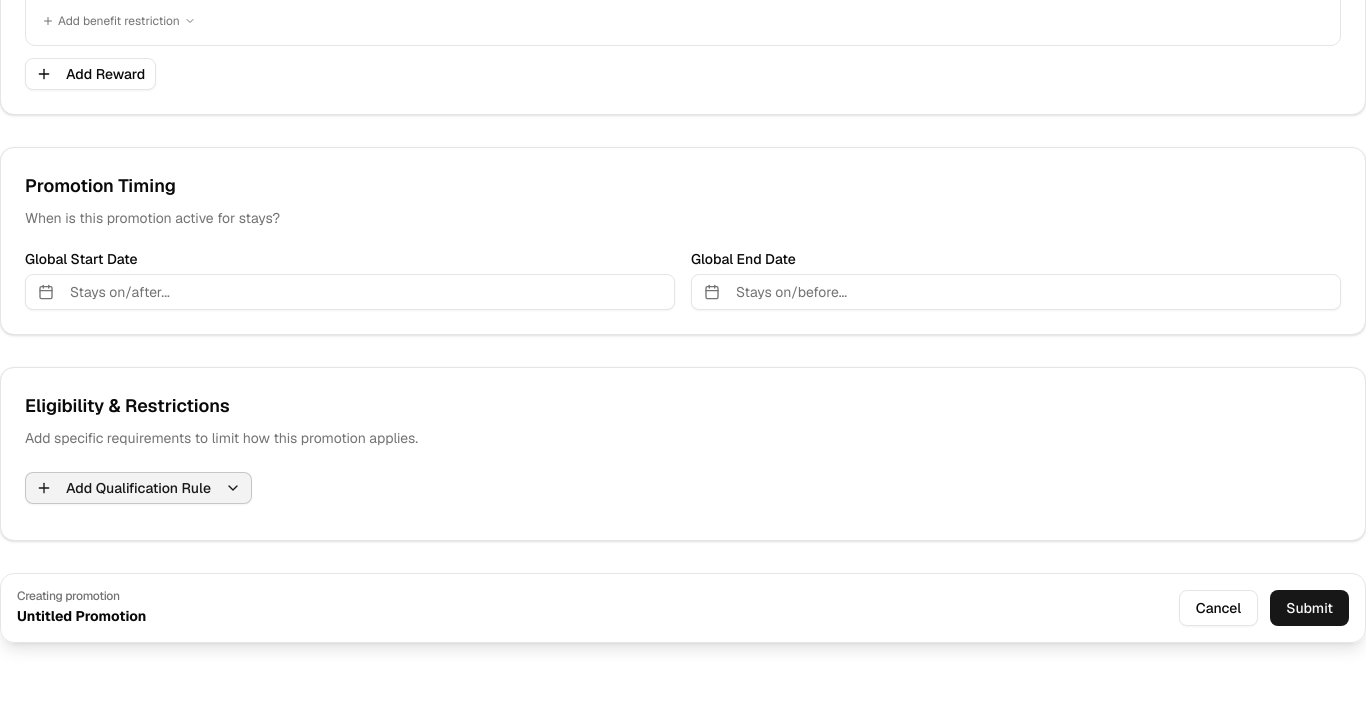
Test: PromotionForm › Booked After Registration restriction › adds the card and the UserRegistrationSection when selected
(page scrolled)
Click the button with test id "restriction-picker-button" at coordinates (138, 488), box [25, 472, 252, 504]
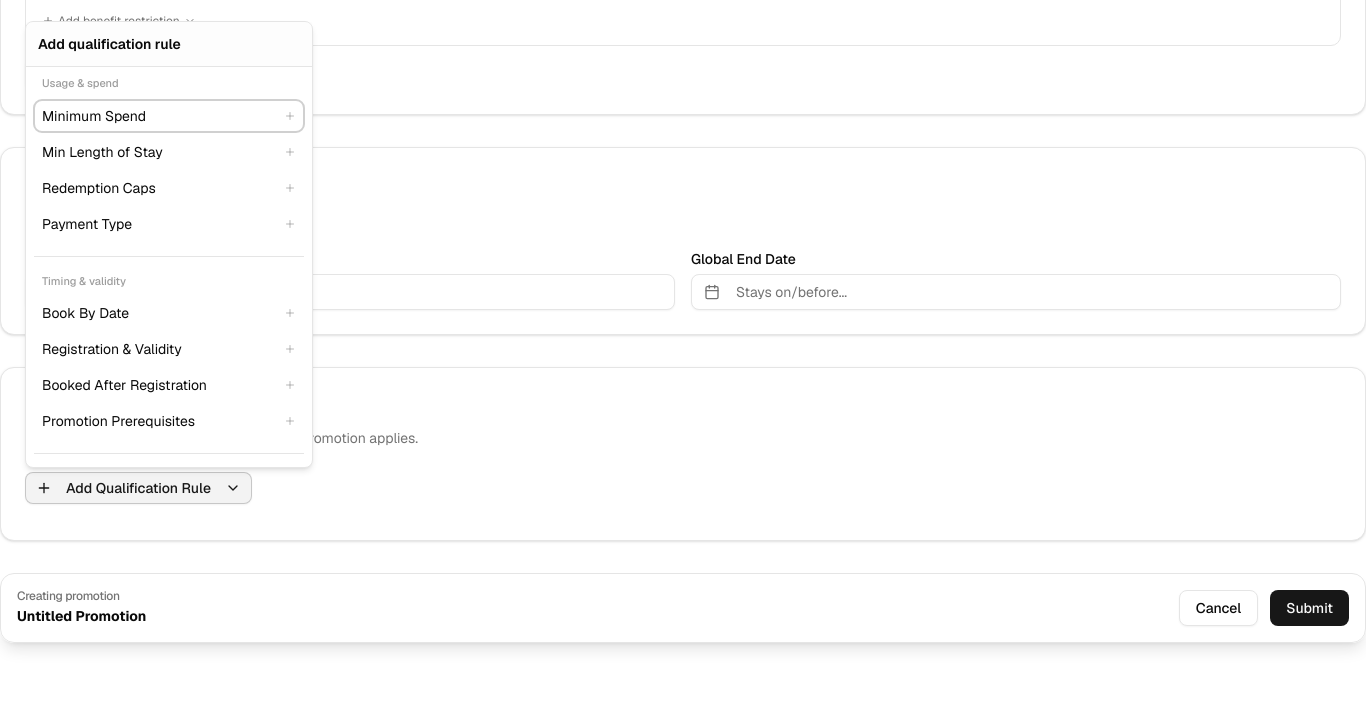
Click the button with test id "restriction-option-booked_after_registration" at coordinates (169, 385), box [34, 369, 304, 401]
(page scrolled)
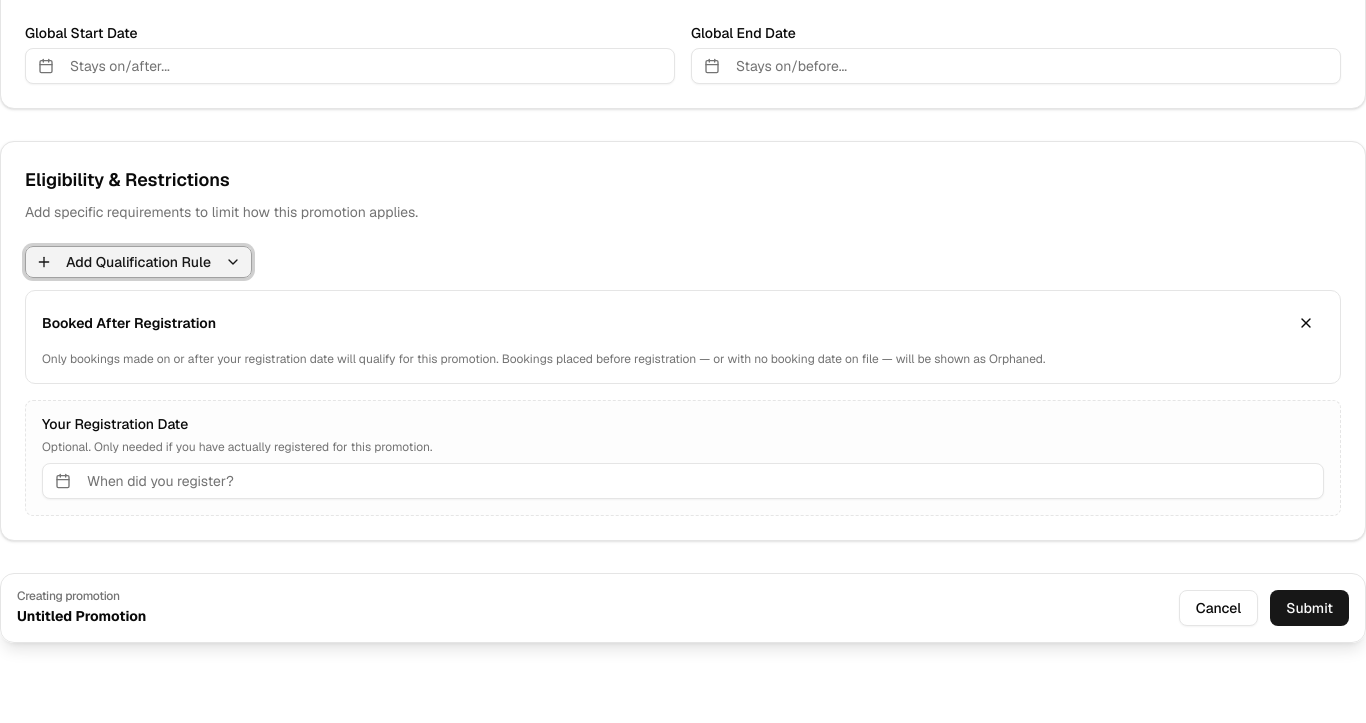
Result: the element with test id "restriction-card-booked-after-registration" is shown at [25, 290, 1341, 384]
Result: the element with test id "user-registration-section" is shown at [25, 400, 1341, 516]
